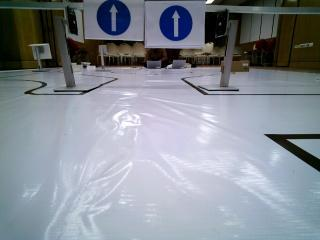straight: (145, 0, 205, 46), (86, 0, 143, 41)
